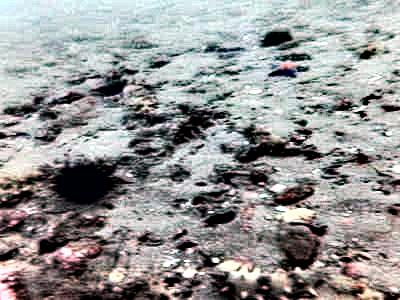urchin: (48, 156, 122, 205)
